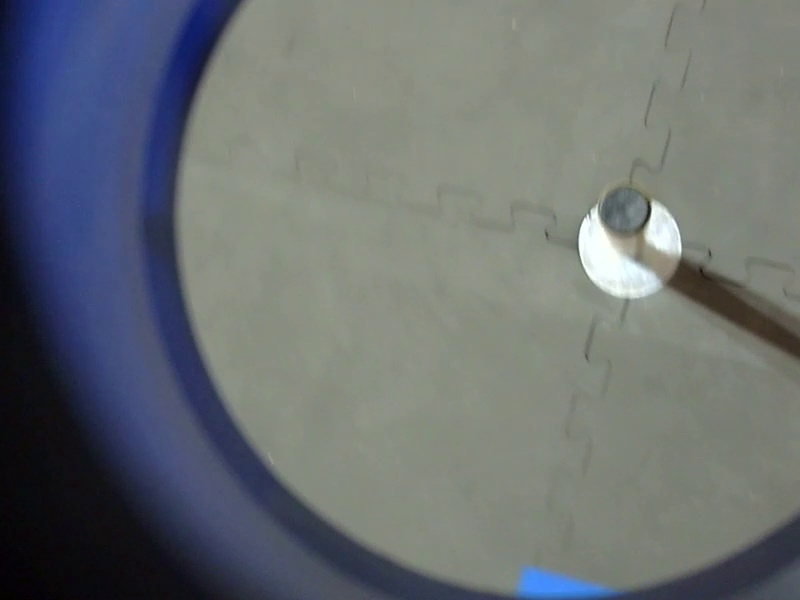tip: (529, 210, 639, 321)
